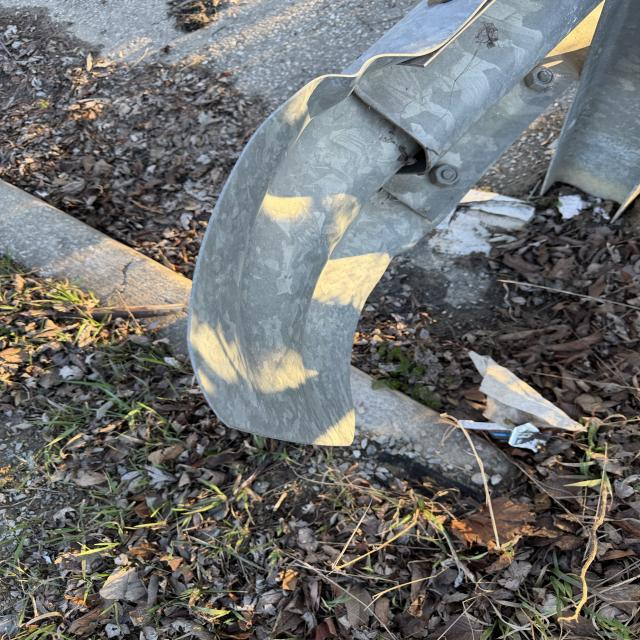Guard rail: (205, 10, 640, 299)
